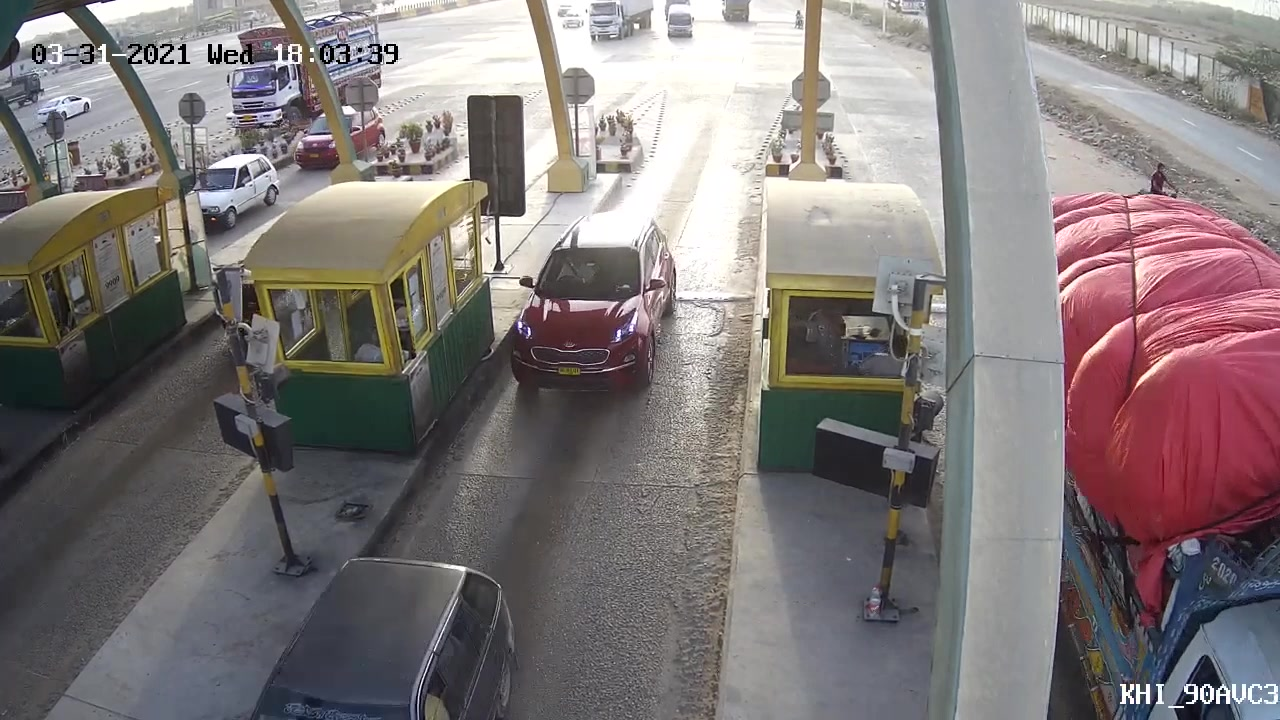F1: (503, 206, 680, 399)
